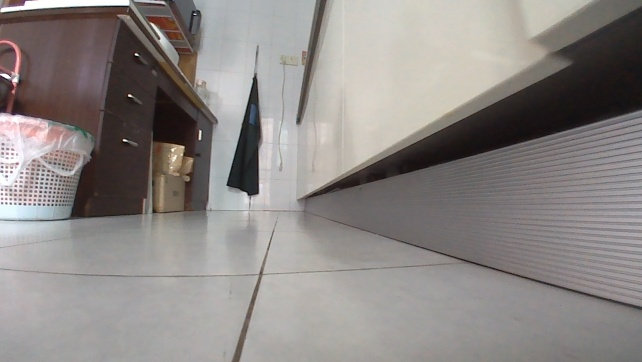cupboard: (288, 0, 641, 313)
wire: (275, 60, 286, 163)
